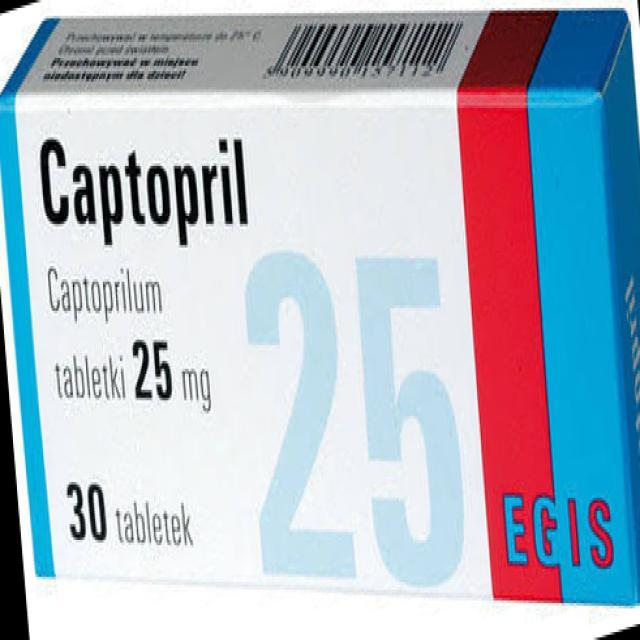drug-name: (34, 128, 262, 250)
